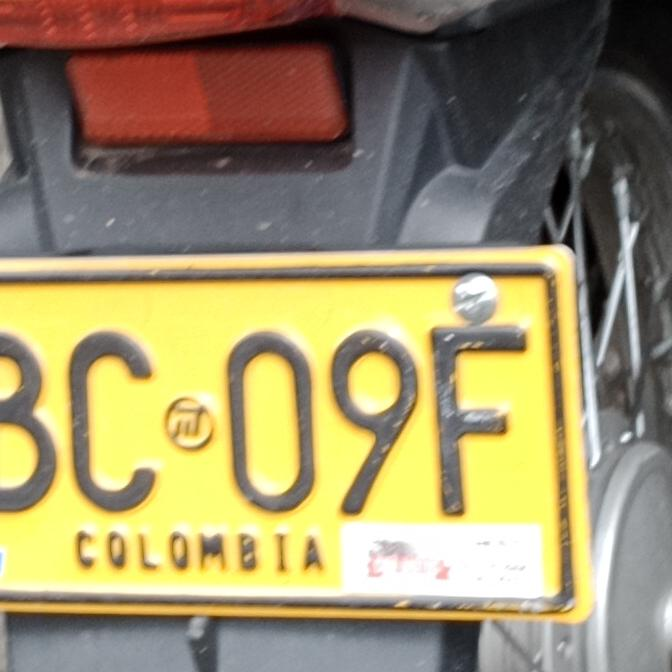plates: (0, 261, 598, 625)
